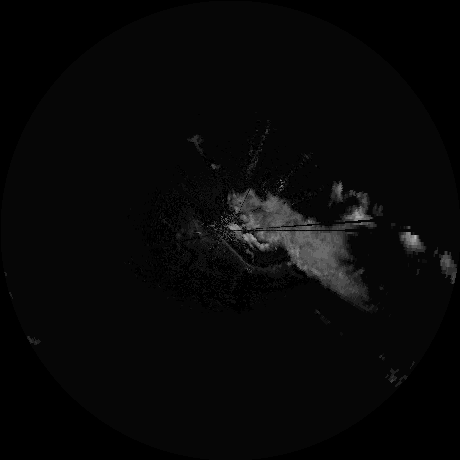frontgust: (218, 236, 256, 271)
